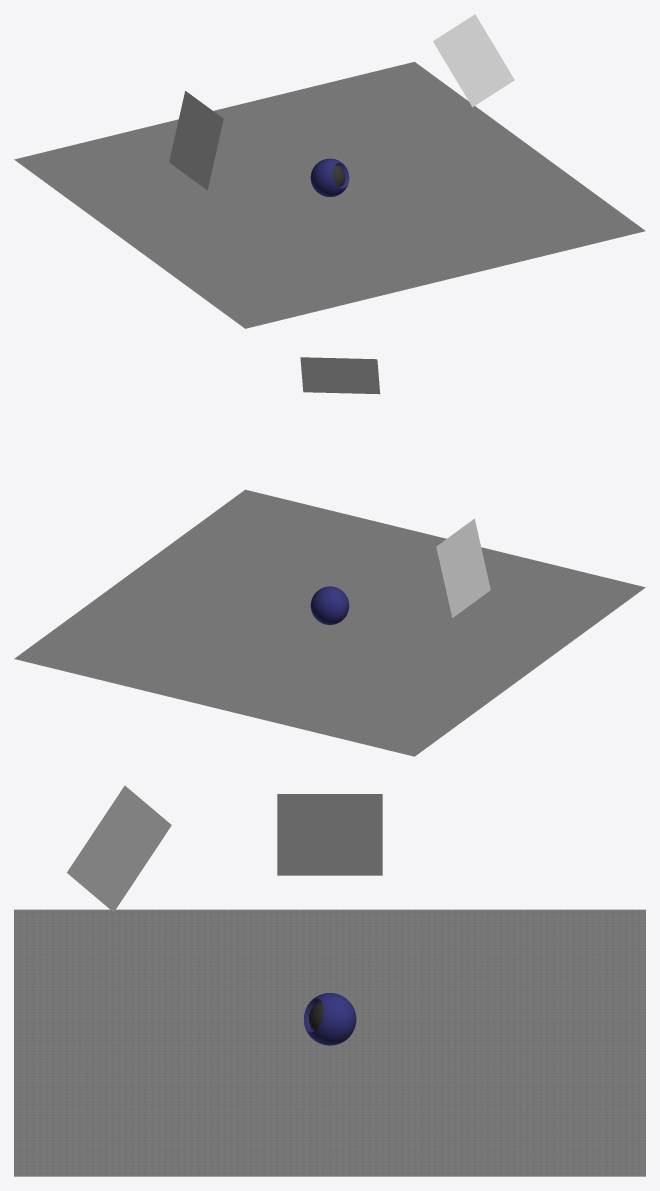
Rendered from matball_plastic03_arealight.obj.
3 renders of one model, top to bottom at view 1: azimuth 30°, elevation 25°; view 2: azimuth 150°, elevation 25°; view 3: azimuth 270°, elevation 25°, orthographic. The views are drawn at different scales.
Parts seen in each view (by area): view 1: floor, arealight01, arealight02, matball; view 2: floor, arealight02, arealight01, matball; view 3: floor, arealight02, arealight01, matball.
Part boxes in pixels (left/top/right/bottom): floor: left=14, top=62, right=645, bottom=328; arealight01: left=433, top=14, right=514, bottom=107; arealight02: left=169, top=91, right=223, bottom=190; matball: left=310, top=158, right=349, bottom=196; floor: left=14, top=489, right=645, bottom=756; arealight02: left=436, top=519, right=490, bottom=617; arealight01: left=300, top=357, right=380, bottom=394; matball: left=310, top=586, right=349, bottom=624; floor: left=14, top=909, right=645, bottom=1176; arealight02: left=277, top=794, right=382, bottom=875; arealight01: left=67, top=785, right=171, bottom=912; matball: left=304, top=993, right=356, bottom=1045.
Bounding box in the file's own units: 24 × 11.57 × 24.
Materials: 5 (1 with a texture image).
